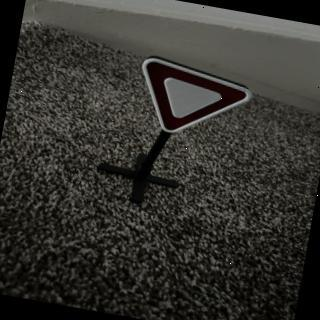sign_yield: (133, 56, 258, 149)
